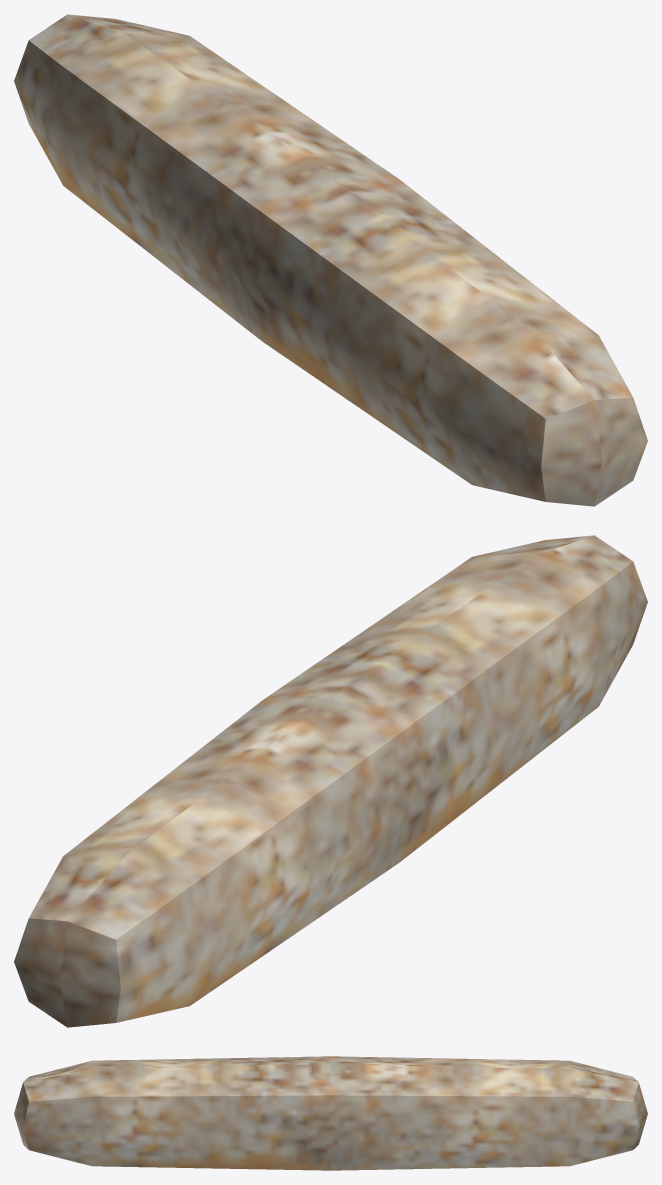
Rendered from oatveil_roll.fbx.
3 views of the same model, one above another, from view 1: azimuth 30°, elevation 25°; view 2: azimuth 150°, elevation 25°; view 3: azimuth 270°, elevation 25° (orthographic). The views are drawn at different scales.
Visible parts, largest first — view 1: oatveil roll; view 2: oatveil roll; view 3: oatveil roll.
Part boxes in pixels (<box>): oatveil roll: <box>14,14,647,506</box>; oatveil roll: <box>14,535,647,1027</box>; oatveil roll: <box>14,1056,647,1170</box>.
Bounding box in the file's own units: 0.2082 × 1.17 × 0.1968.
